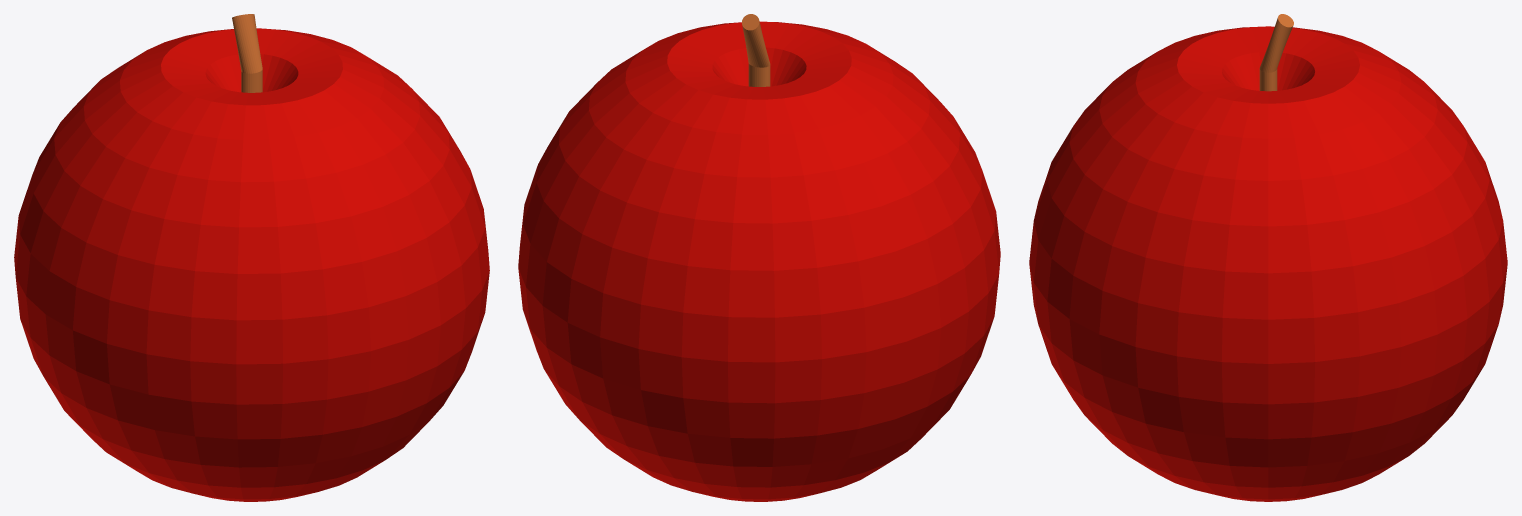
File: Apple.fbx
3 views of the same model, side by side, from view 1: azimuth 30°, elevation 25°; view 2: azimuth 150°, elevation 25°; view 3: azimuth 270°, elevation 25° (orthographic).
Parts seen in each view (by area): view 1: Apple, Cable; view 2: Apple, Cable; view 3: Apple, Cable.
Part boxes in pixels (x1,y1,x2,y2): Apple: (14,28,489,501); Cable: (232,14,262,92); Apple: (518,21,1000,501); Cable: (742,14,770,86); Apple: (1029,26,1507,501); Cable: (1259,14,1293,91).
Bounding box in the file's own units: 200 × 214 × 200.
